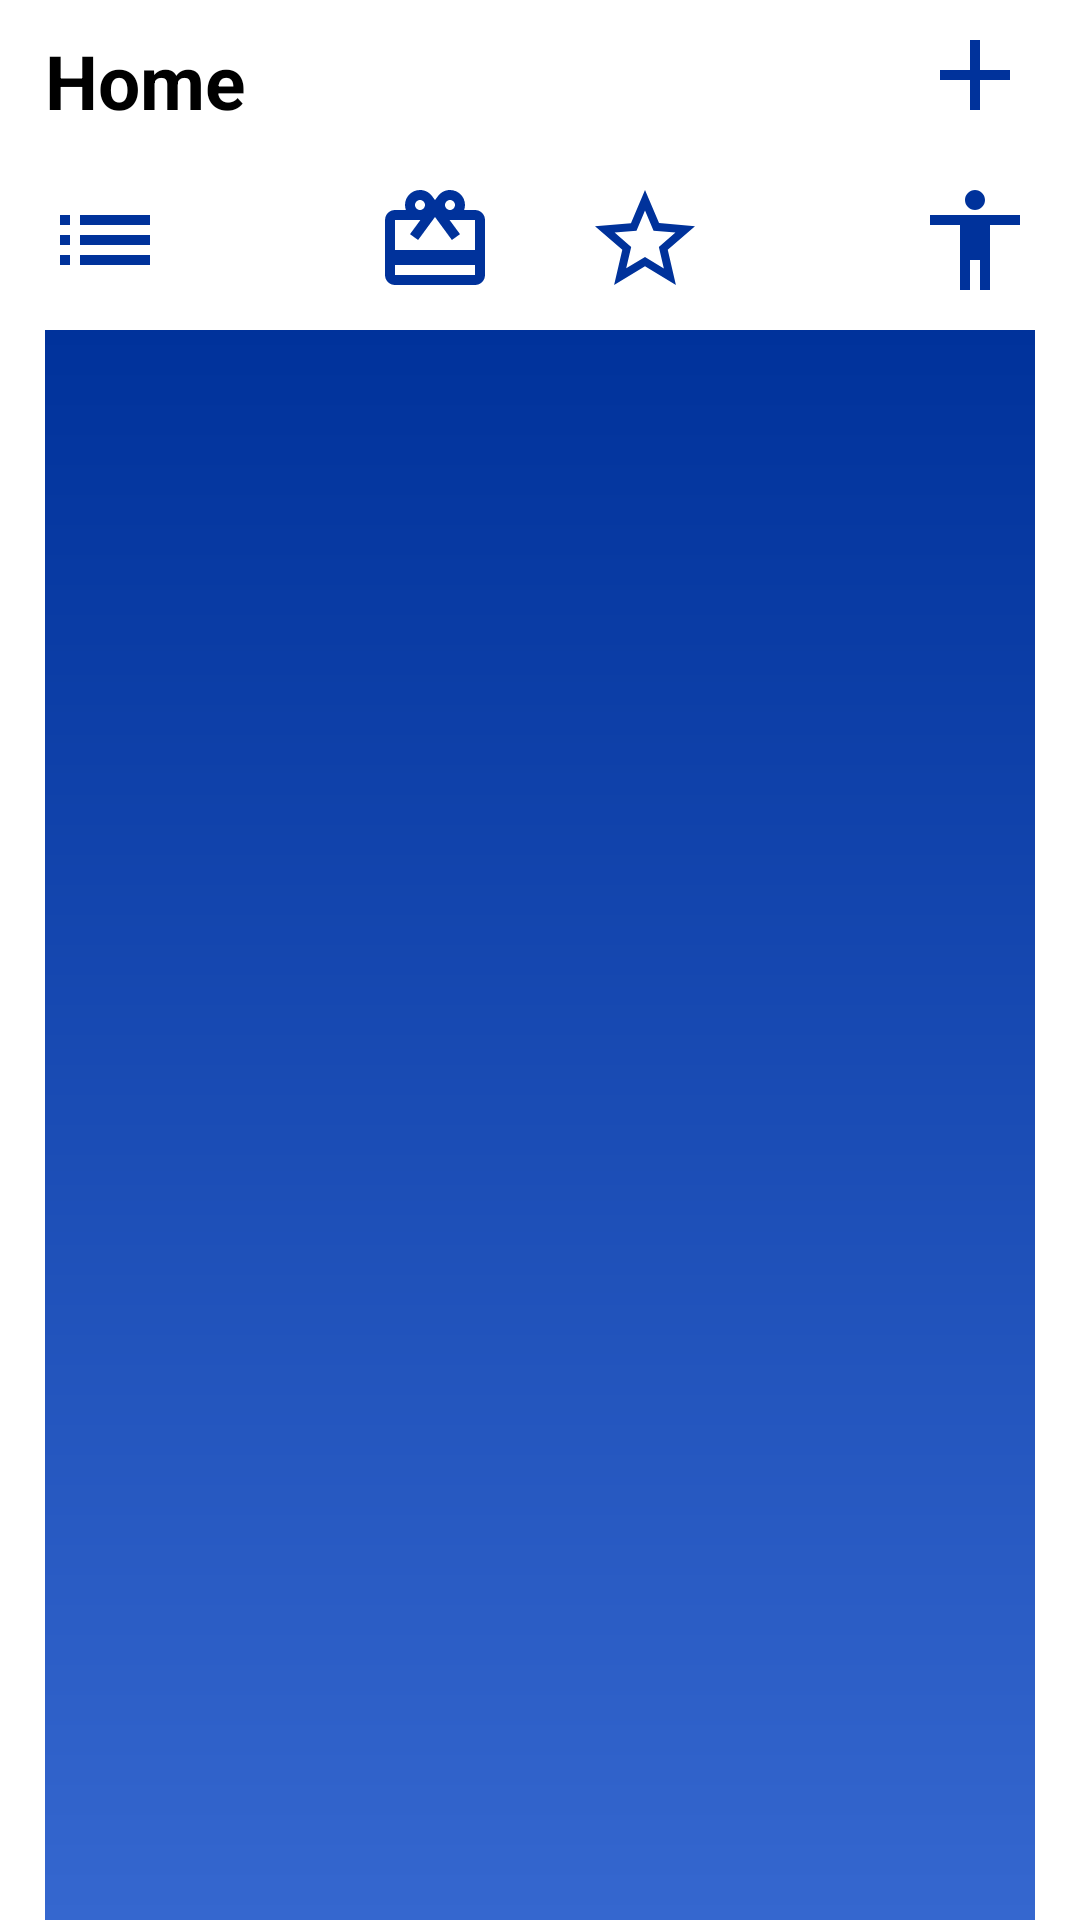

Point at icon controls on the screen. Image size 1080px×1920px, points as (x=x, y=y).
add: (x=975, y=75)
categories: (x=105, y=240)
gift: (x=435, y=237)
star: (x=645, y=237)
